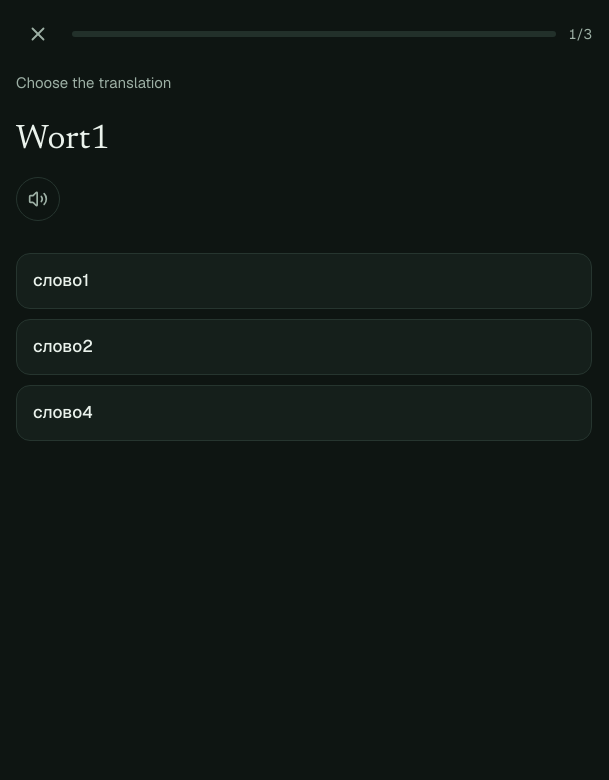
Scenario: answering a choice question › a wrong pick: "Not quite", the pick has a cross and a danger border, the right option is marked
Expected: the text "Wort1" is shown, x1=16 y1=122 x2=110 y2=156
Click the button "слово2" at [63, 346], box x1=16 y1=319 x2=592 y2=375
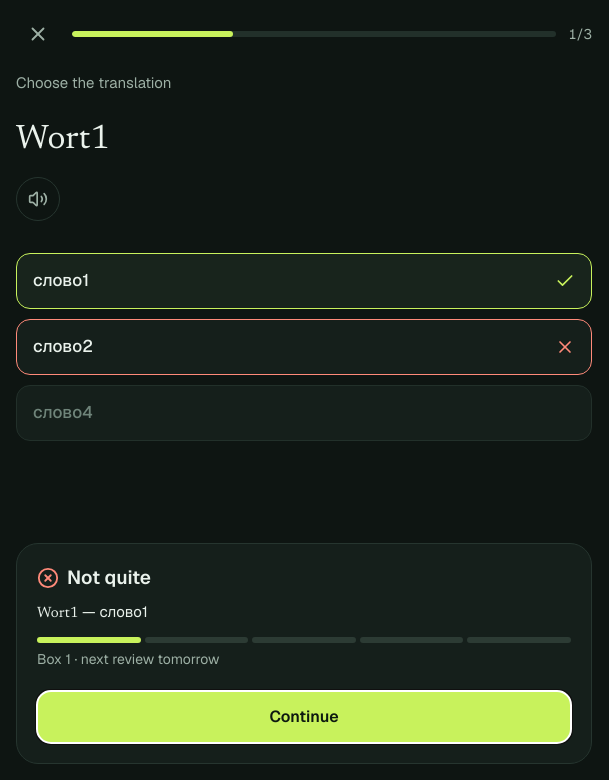
Result: the text "Not quite" is shown at x1=67 y1=564 x2=151 y2=592
Result: the message shows "Wort1 — слово1" at x1=16 y1=543 x2=592 y2=764
